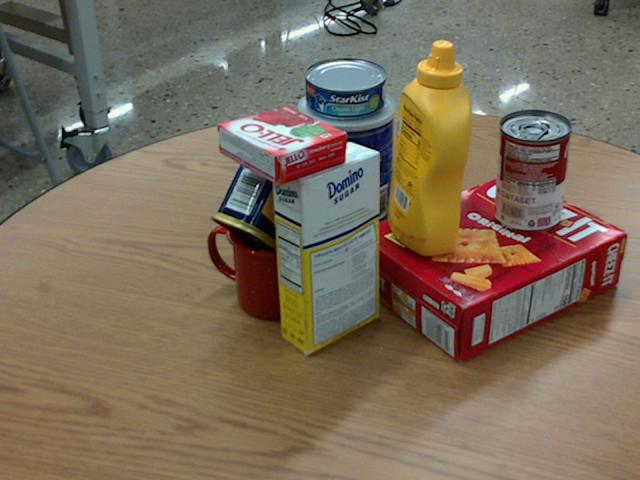cracker_box: (355, 171, 625, 362)
gelatin_box: (217, 104, 346, 185)
large_marker: (427, 121, 447, 223)
master_chef_can: (300, 84, 397, 240)
mug: (206, 203, 319, 318)
mustard_bottle: (388, 39, 471, 255)
potted_meat_can: (211, 138, 328, 263)
sugar_box: (270, 141, 378, 353)
tomato_soup_can: (494, 108, 570, 230)
tuna_fish_can: (304, 57, 386, 117)
